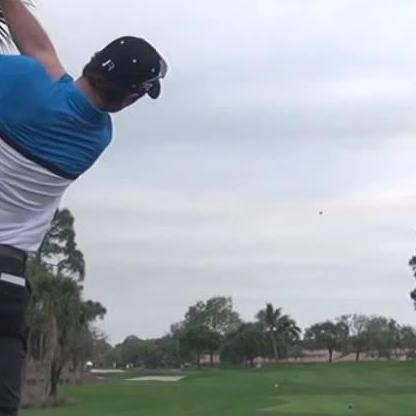golfball: (315, 208, 322, 214)
